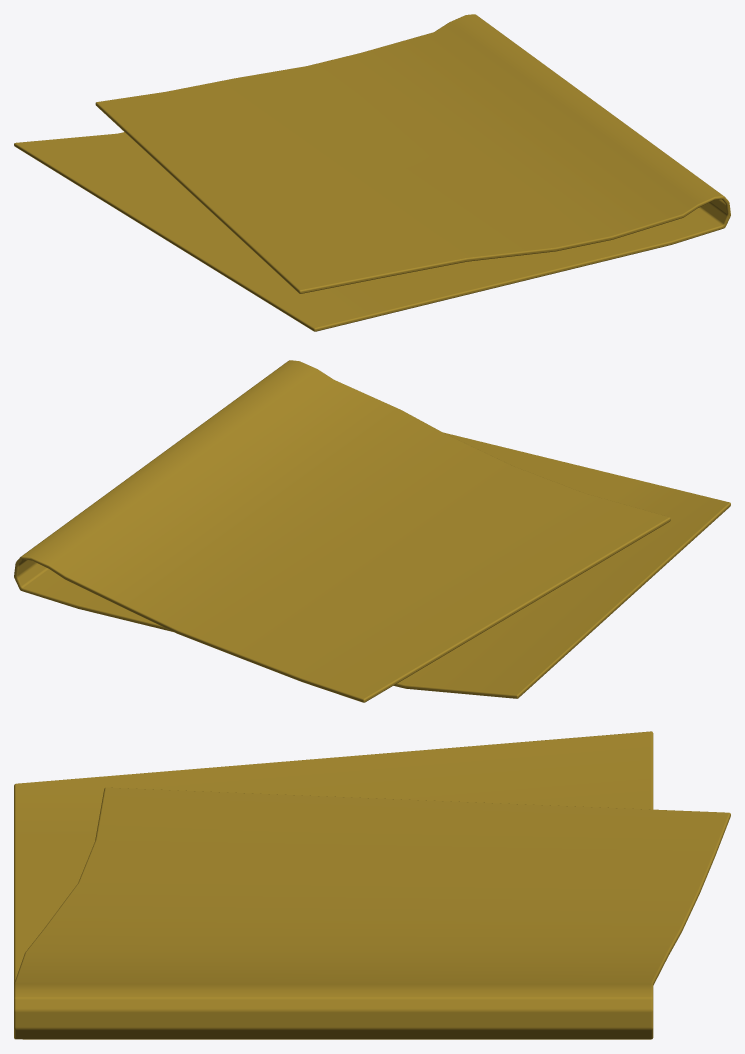
File: Trapo para limpiar.fbx
The picture shows the model from 3 angles, top to bottom: view 1: azimuth 30°, elevation 25°; view 2: azimuth 150°, elevation 25°; view 3: azimuth 270°, elevation 25°; orthographic projection. The views are drawn at different scales.
Visible parts, largest first — view 1: Plane.001; view 2: Plane.001; view 3: Plane.001.
Boxes of the visible parts, left/top/right/bottom form: Plane.001: left=14, top=14, right=730, bottom=331; Plane.001: left=14, top=360, right=730, bottom=702; Plane.001: left=14, top=731, right=730, bottom=1039.
Size of the model in its own units: 13.82 by 1.06 by 14.32.
